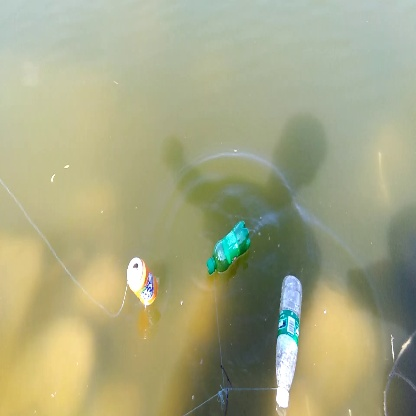bottle: (204, 220, 253, 277), (122, 256, 161, 310)
